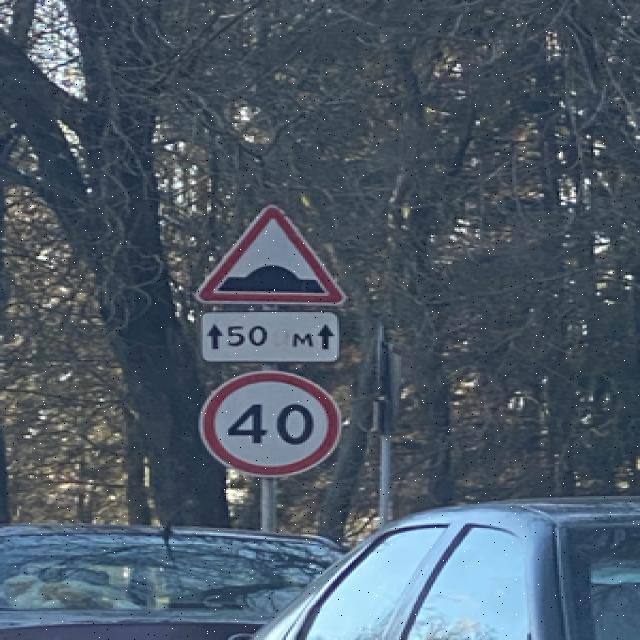Speedlimit: (193, 365, 350, 483)
